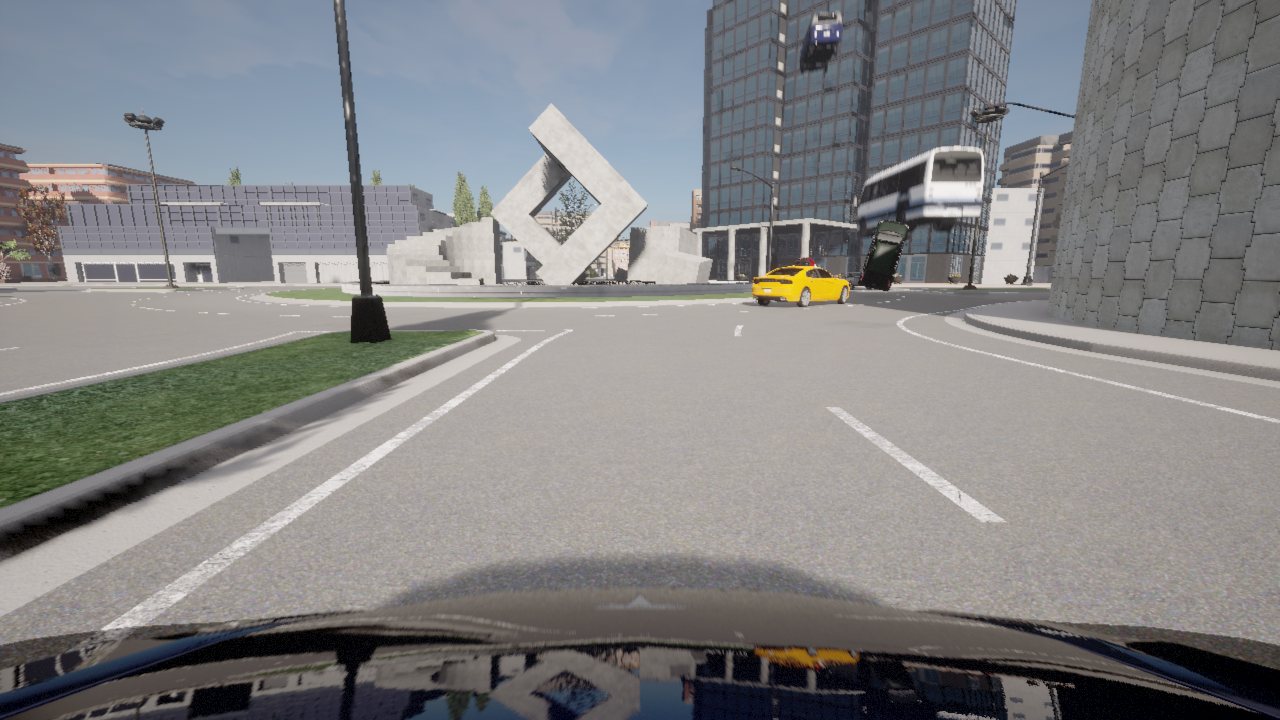cyclist: (0, 588, 1279, 719), (853, 148, 983, 238), (751, 265, 848, 307), (858, 220, 910, 290), (799, 13, 841, 74), (836, 273, 871, 289), (794, 258, 816, 266)
